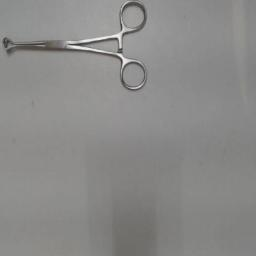Babcock Tissue Forceps: (1, 1, 149, 97)
